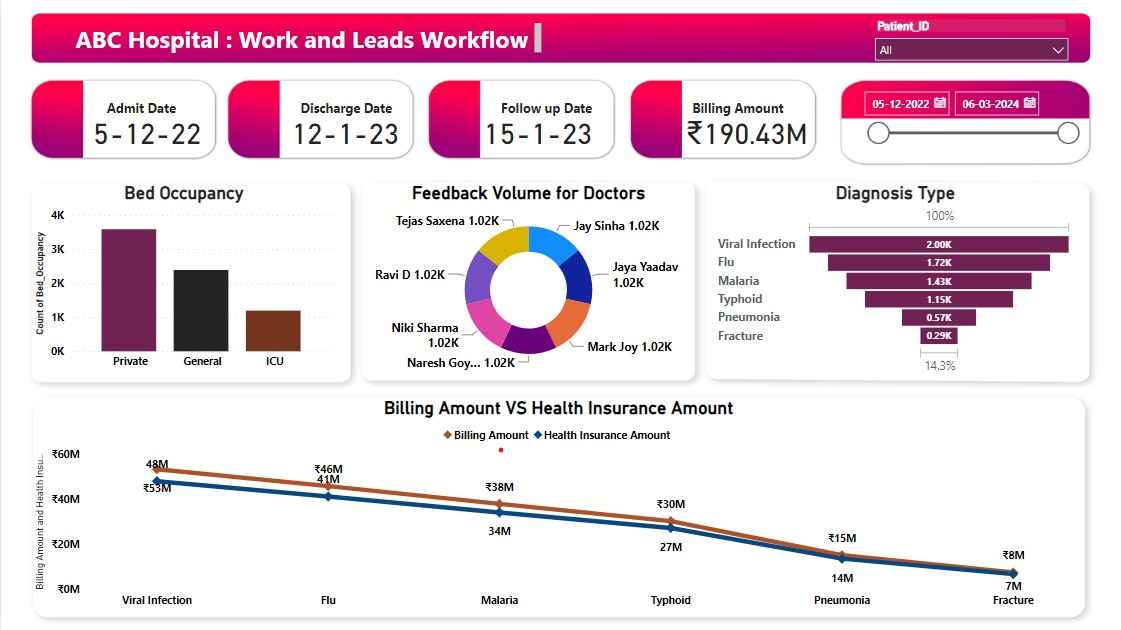

This screenshot's page, from the dashboard's own definition file:
{"tool":"powerbi","page":{"name":"Page 1","canvas":[1280,720],"ordinal":0},"visuals":[{"type":"textbox","box":[80,21.4,542.9,44.3],"z":0},{"type":"slicer","fields":{"Values":["Sheet1.Patient_ID"]},"box":[988.5,16.5,241.3,53.5],"z":1000},{"type":"card","fields":{"Values":["Sheet1.Billing Amount"]},"box":[775.5,124.2,153.2,53.1],"z":2000},{"type":"textbox","box":[100.1,108.5,120.6,31.4],"z":3000},{"type":"textbox","box":[775.5,108.5,132.7,31.4],"z":4000},{"type":"textbox","box":[334.4,108.9,120.6,31.4],"z":5000},{"type":"textbox","box":[557.2,108.5,132.7,31.4],"z":6000},{"type":"card","fields":{"Values":["Sheet1.Admit_Date"]},"box":[90.5,124.2,153.2,53.1],"z":7000},{"type":"card","fields":{"Values":["Sheet1.Discharge_Date"]},"box":[317.2,124.2,153.2,53.1],"z":8000},{"type":"card","fields":{"Values":["Sheet1.Followup Date"]},"box":[536.7,124.2,153.2,53.1],"z":10000},{"type":"slicer","fields":{"Values":["Sheet1.Admit_Date"]},"box":[974.5,94.1,266.5,94.1],"z":11000},{"type":"columnChart","title":" Bed Occupancy","fields":{"Category":["Sheet1.Bed_Occupancy"],"Y":["Sheet1.Bed_Occupancy"]},"box":[35,208.6,349.7,223.1],"z":12000},{"type":"donutChart","title":"Feedback Volume for Doctors","fields":{"Category":["Sheet1.Doctor"],"Y":["Sheet1.Doctor"]},"box":[413.7,208.6,377.5,223.1],"z":13000},{"type":"funnel","title":"Diagnosis Type","fields":{"Category":["Sheet1.Diagnosis"],"Y":["Sheet1.Diagnosis"]},"box":[814.1,208.6,416.1,223.1],"z":13001},{"type":"lineChart","title":"Billing Amount VS Health Insurance Amount","fields":{"Y":["Sheet1.Billing Amount","Sheet1.Health Insurance Amount"],"Category":["Sheet1.Diagnosis"]},"box":[35,454.7,1206,249.6],"z":13002}]}

Visuals, with their boxes in screenshot pixels (x1, y1, x2, y2), scaled from the page's 1280x720 canvas onto the 1121x630 screenshot:
textbox: crop(70, 19, 546, 57)
slicer - Sheet1.Patient_ID: crop(866, 14, 1077, 61)
card - Sheet1.Billing Amount: crop(679, 109, 813, 155)
textbox: crop(88, 95, 193, 122)
textbox: crop(679, 95, 795, 122)
textbox: crop(293, 95, 398, 123)
textbox: crop(488, 95, 604, 122)
card - Sheet1.Admit_Date: crop(79, 109, 213, 155)
card - Sheet1.Discharge_Date: crop(278, 109, 412, 155)
card - Sheet1.Followup Date: crop(470, 109, 604, 155)
slicer - Sheet1.Admit_Date: crop(853, 82, 1087, 165)
" Bed Occupancy" columnChart: crop(31, 183, 337, 378)
"Feedback Volume for Doctors" donutChart: crop(362, 183, 693, 378)
"Diagnosis Type" funnel: crop(713, 183, 1077, 378)
"Billing Amount VS Health Insurance Amount" lineChart: crop(31, 398, 1087, 616)
